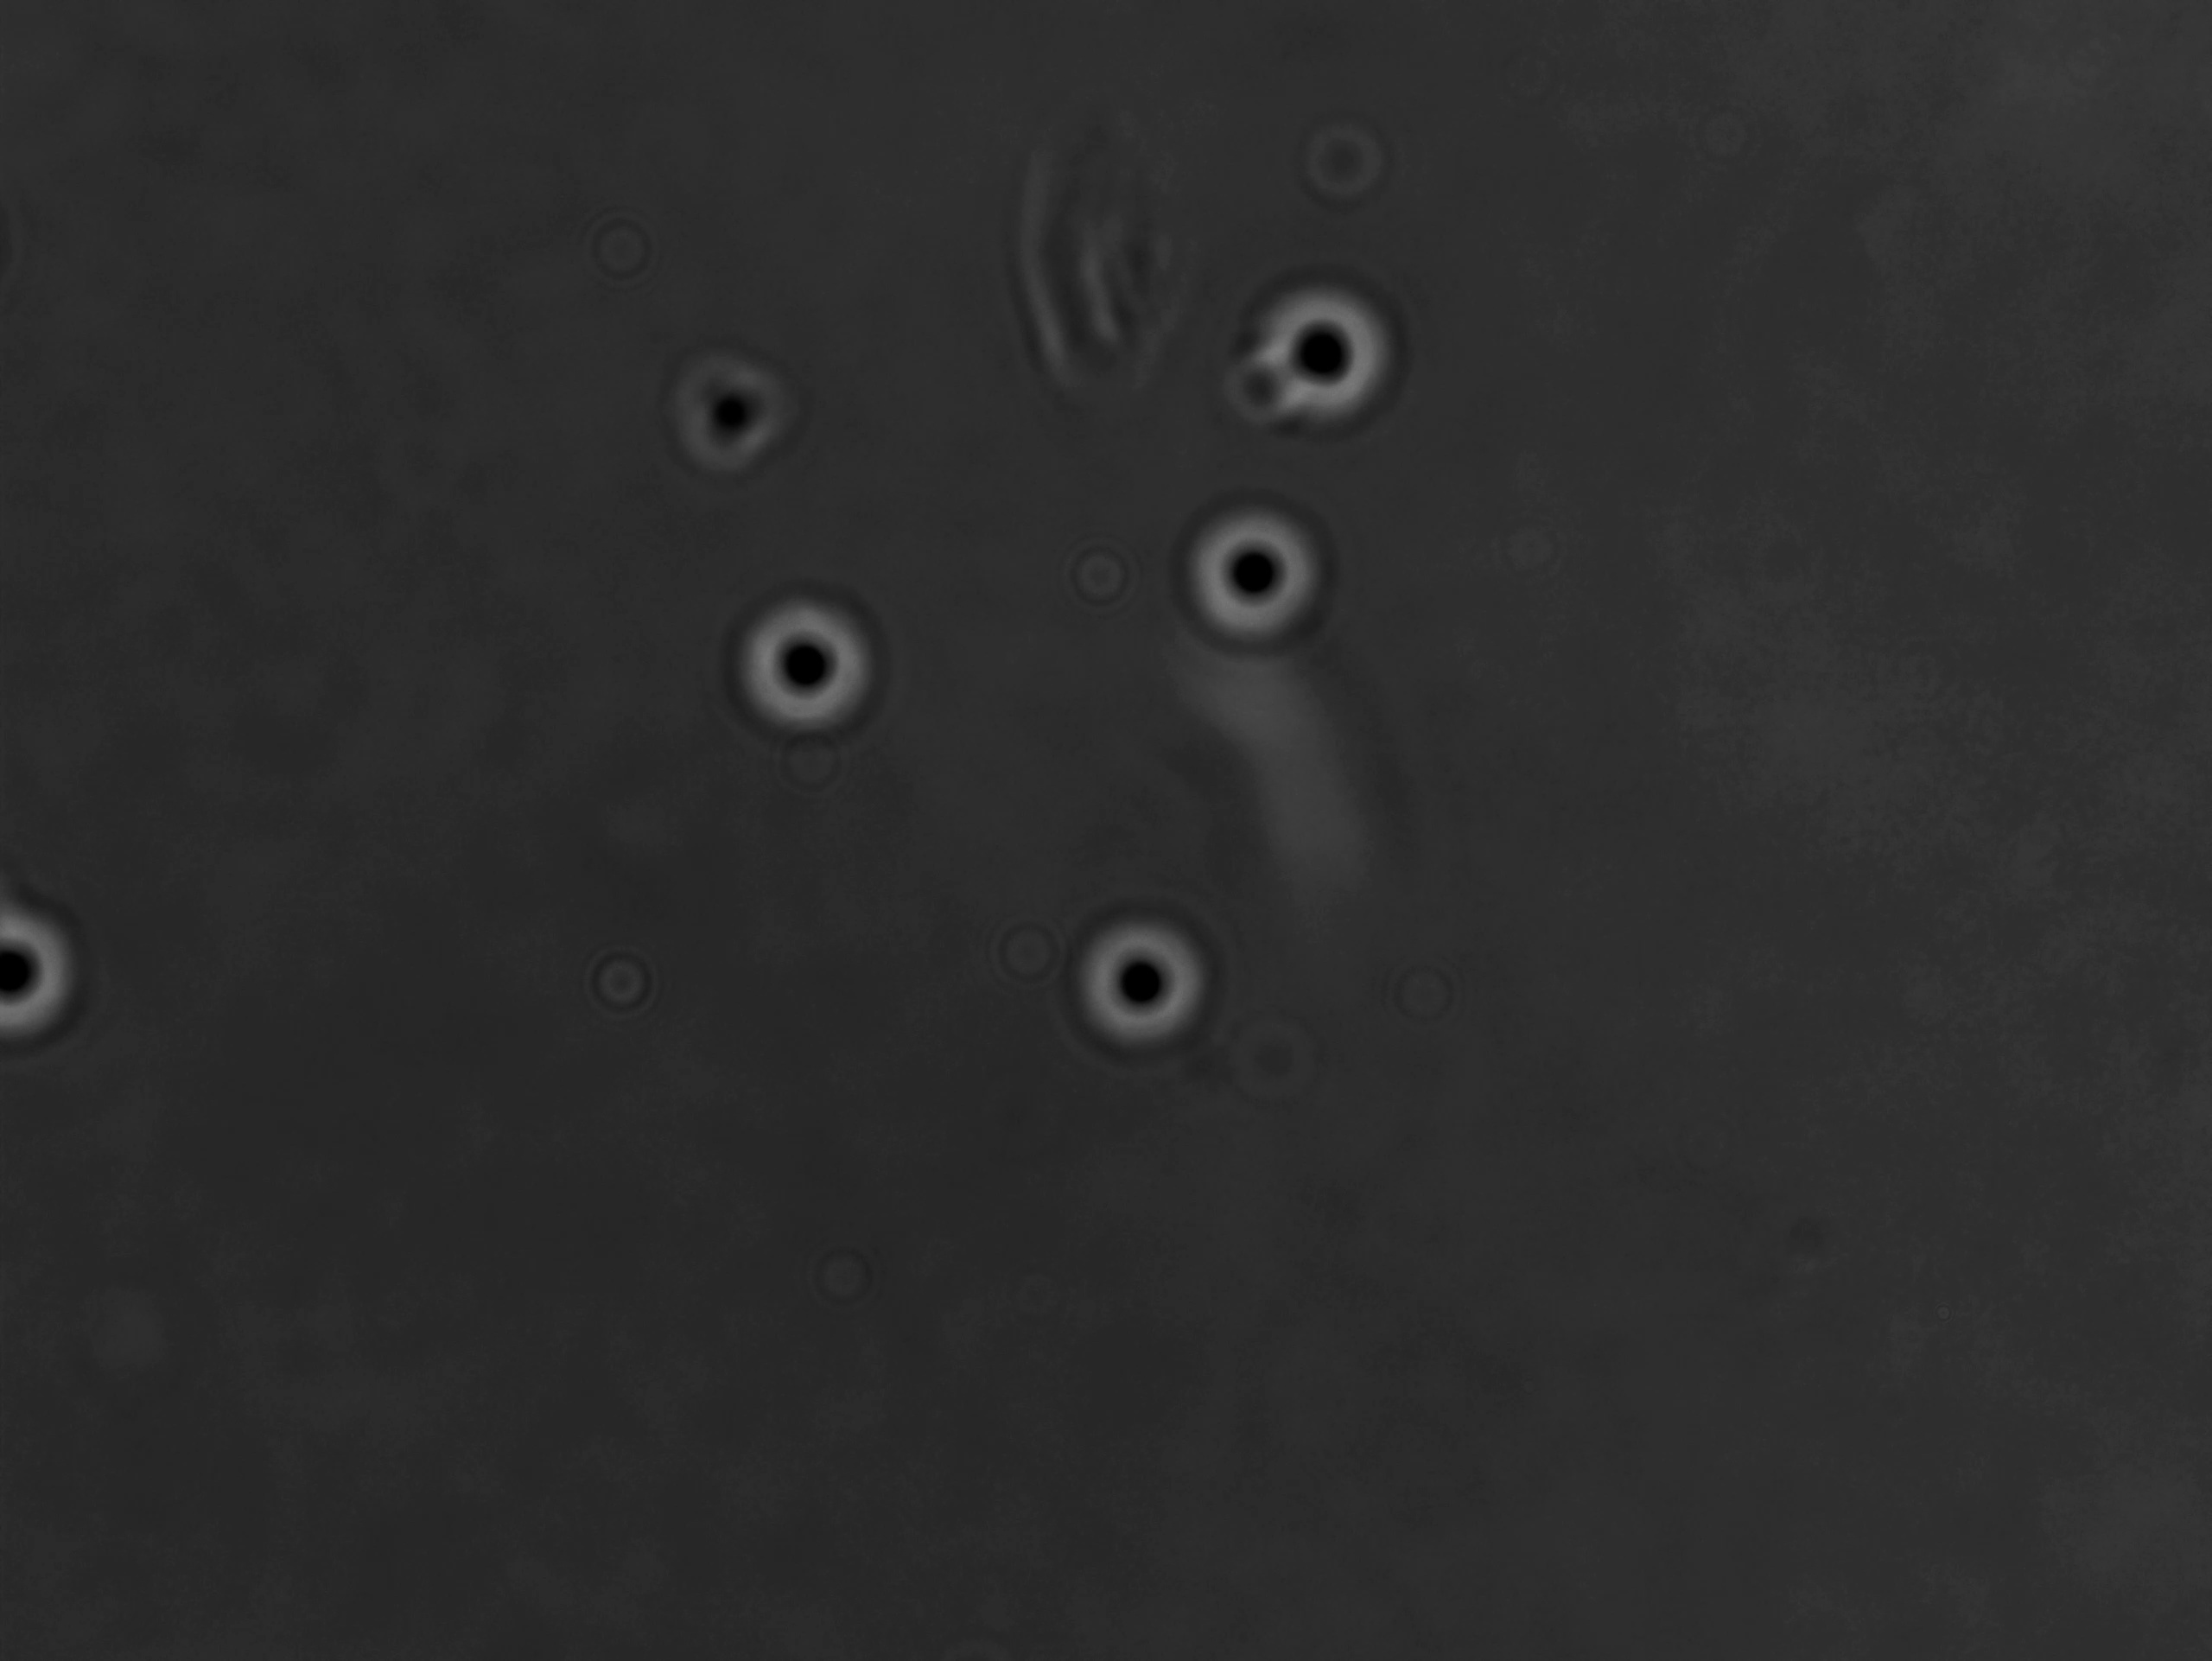depth:-40: (717, 574, 902, 750), (1164, 492, 1350, 658), (1054, 902, 1223, 1070), (1239, 270, 1408, 438)
